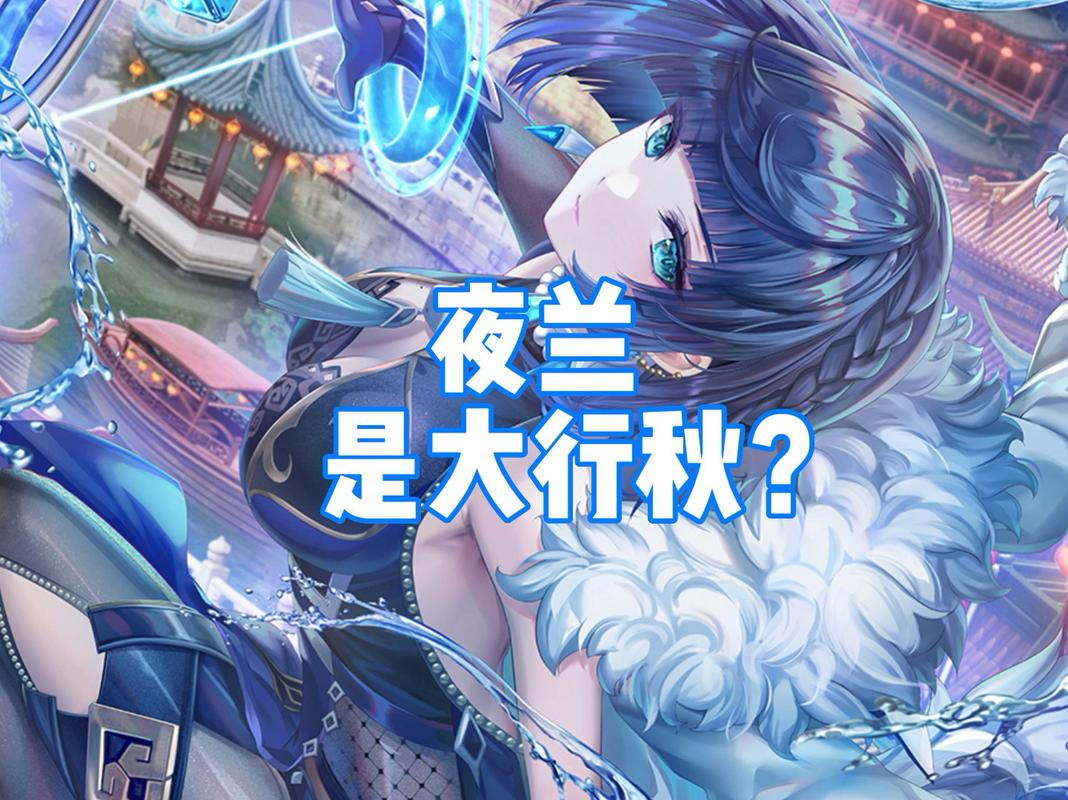夜兰: (1, 6, 972, 783)
